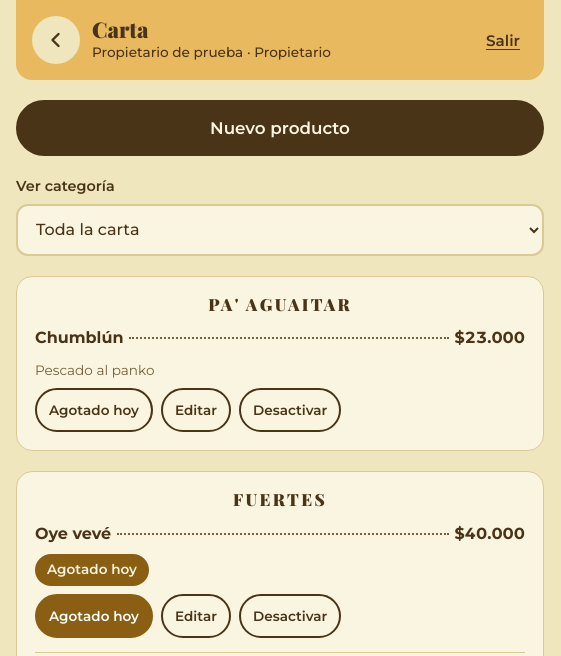
Carta (HU02) › edita el precio y avisa que los pedidos anteriores no cambian
The width and height of the screenshot is (561, 656).
Click the button with aria-label "Editar Chumblún": (196, 410) [161, 388, 231, 432]
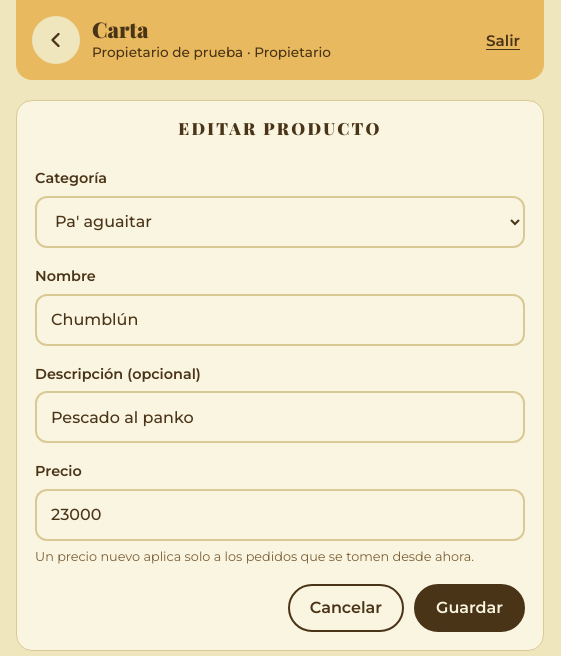
expect the field labelled "Precio" holds "23000": met
In the field labelled "Precio": (280, 515) [35, 489, 525, 541], type "25000"
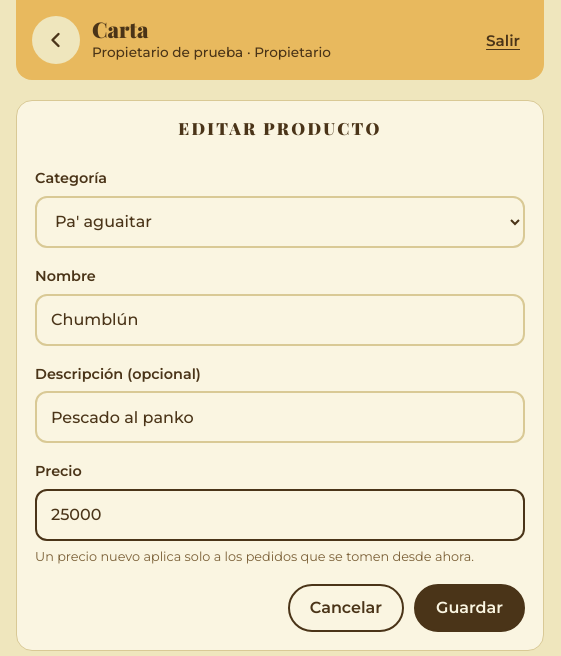
Click the button "Guardar": (470, 608) [414, 584, 525, 632]
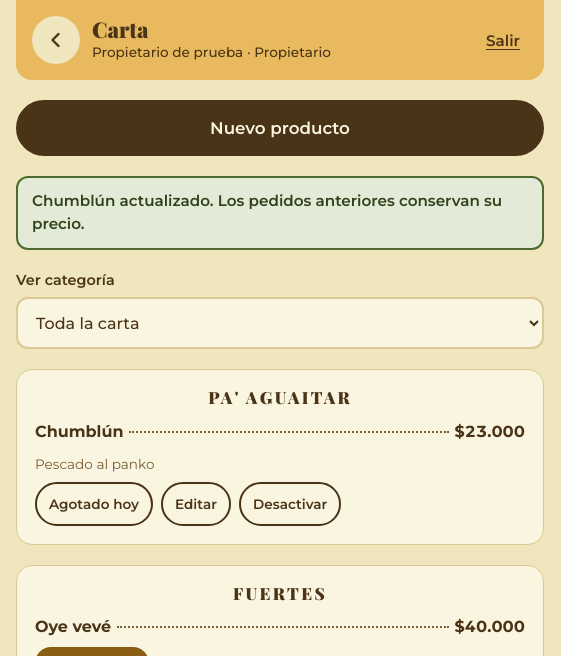
expect the message shows "conservan su precio": met, box [32, 191, 502, 233]
